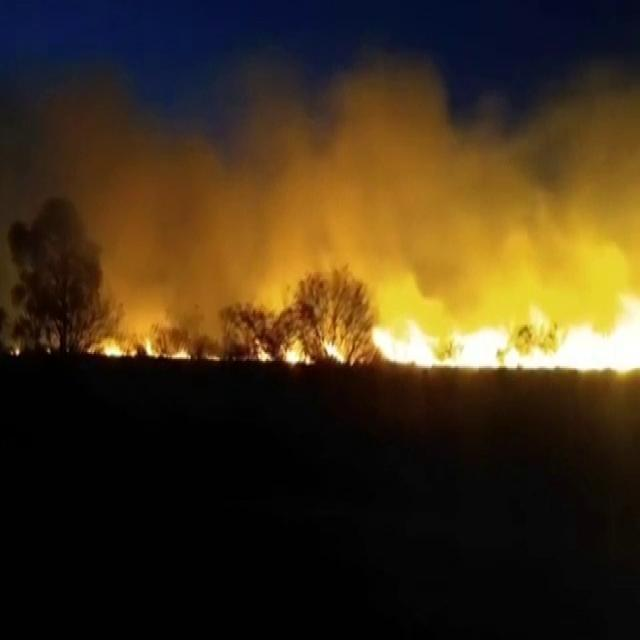Fire: (76, 306, 640, 378), (516, 313, 609, 377), (368, 313, 440, 384), (455, 327, 509, 366), (140, 334, 194, 362), (90, 332, 125, 362), (321, 334, 348, 366), (283, 338, 312, 366), (324, 332, 341, 362), (285, 343, 304, 366), (262, 347, 270, 377)
Smoke: (21, 59, 640, 282)
